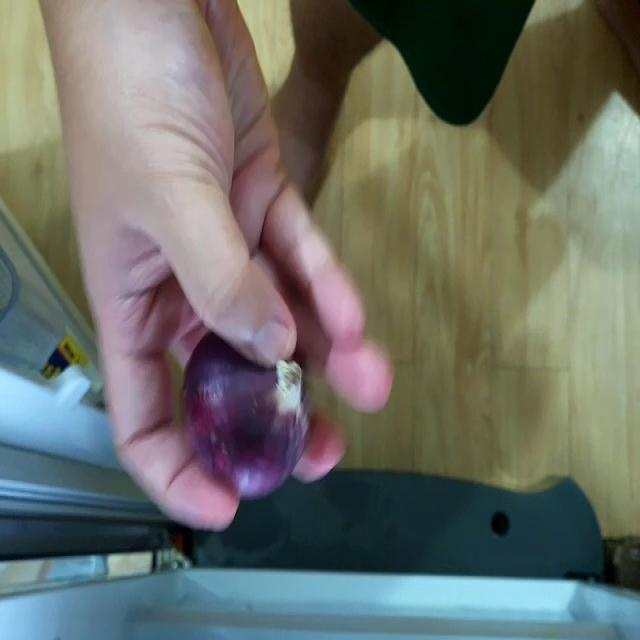onion: (174, 337, 310, 502)
